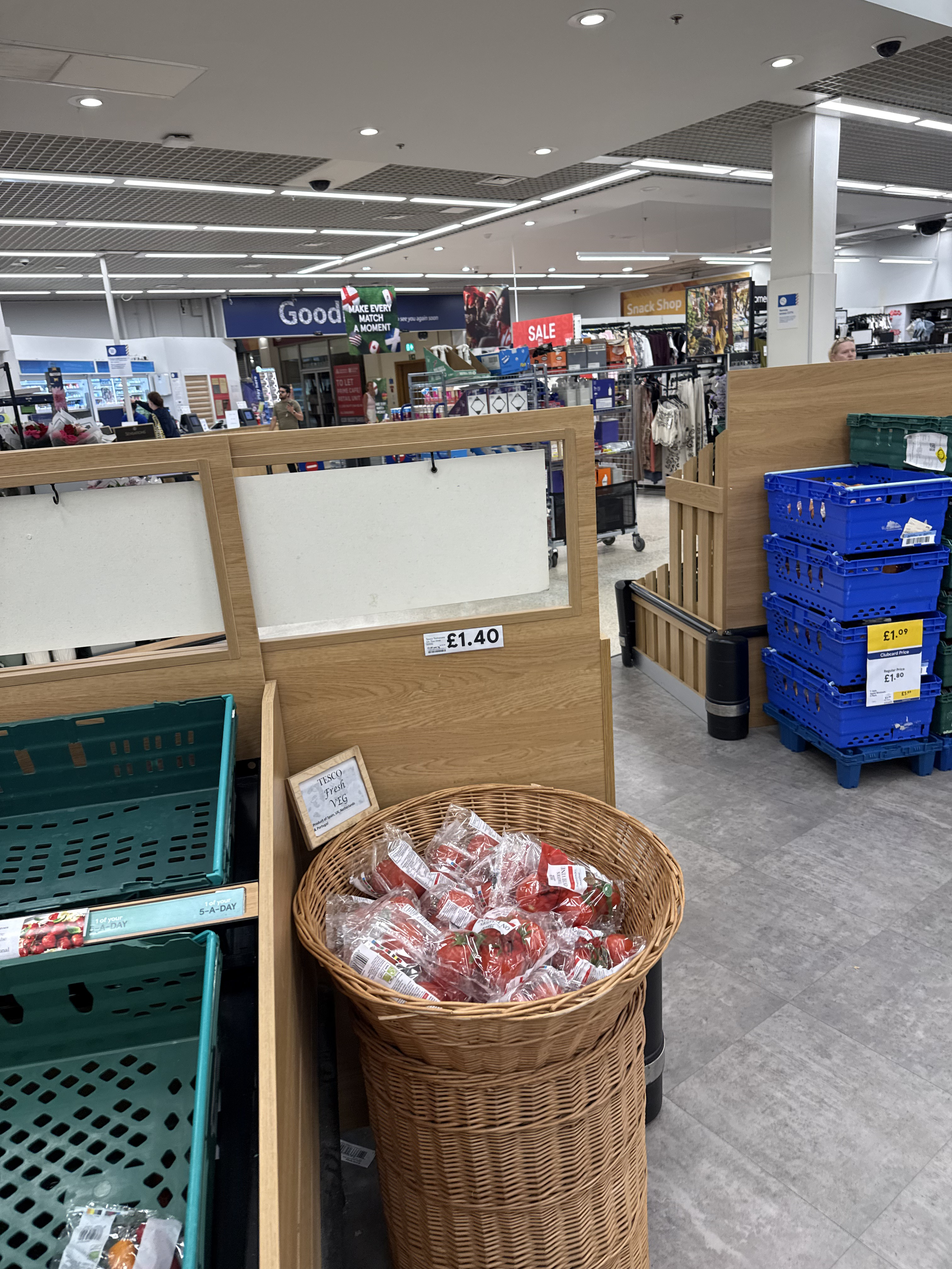medium: (423, 625, 503, 656)
small: (883, 689, 920, 705)
